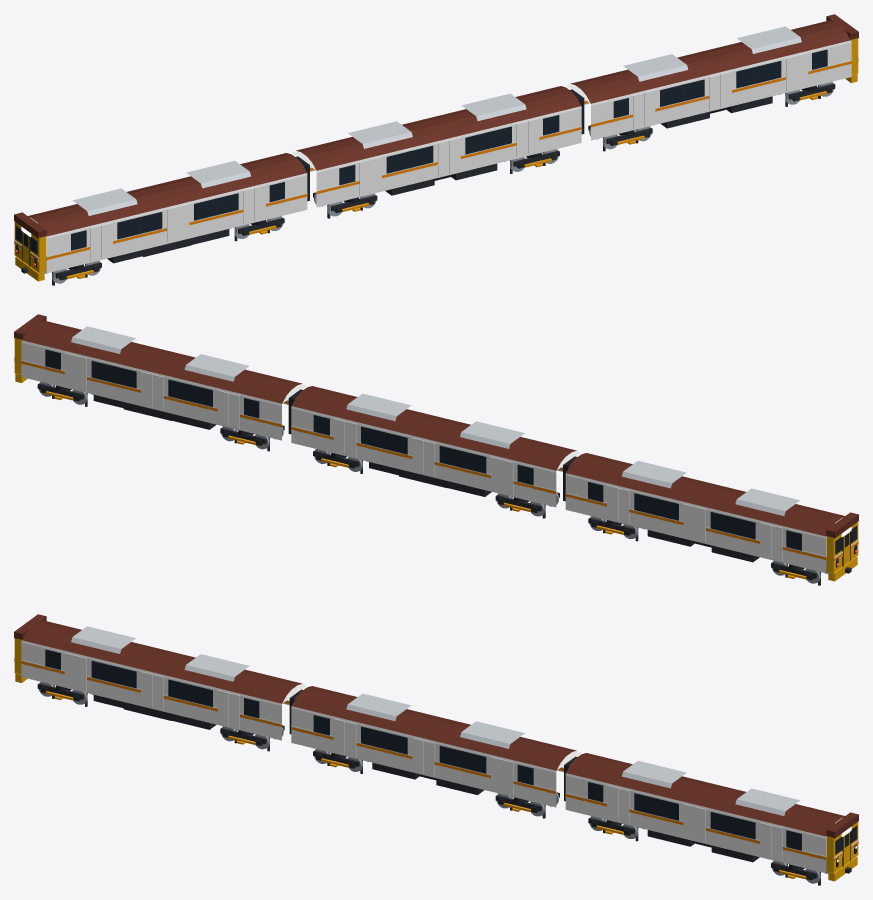
Rendered from tokyo-metro-1000-consist.glb.
3 renders of one model, top to bottom at view 1: azimuth 30°, elevation 25°; view 2: azimuth 150°, elevation 25°; view 3: azimuth 330°, elevation 25°, orthographic.
Visible parts, largest first — view 1: Roof_Maroon_Crown (×3), Body_Shell (×3), Doors_And_Windows (×3), Roof_HVAC (×6), Car_Canonical (×3), Lead_Cab_Front (×2), Underfloor_Equipment (×3); view 2: Roof_Maroon_Crown (×3), Body_Shell (×3), Doors_And_Windows (×3), Roof_HVAC (×6), Car_Canonical (×3), Underfloor_Equipment (×3), Lead_Cab_Front (×2); view 3: Roof_Maroon_Crown (×3), Body_Shell (×3), Doors_And_Windows (×3), Roof_HVAC (×6), Car_Canonical (×3), Lead_Cab_Front (×2), Underfloor_Equipment (×3).
Part boxes in pixels (x1,y1,x2,y2): Roof_Maroon_Crown (×3): (28,20,850,236); Body_Shell (×3): (30,40,851,273); Doors_And_Windows (×3): (71,49,827,250); Roof_HVAC (×6): (73,26,801,215); Car_Canonical (×3): (46,60,851,260); Lead_Cab_Front (×2): (14,14,858,281); Underfloor_Equipment (×3): (107,96,772,263); Roof_Maroon_Crown (×3): (22,320,844,536); Body_Shell (×3): (21,340,842,573); Doors_And_Windows (×3): (45,349,801,550); Roof_HVAC (×6): (71,326,799,515); Car_Canonical (×3): (21,360,826,560); Underfloor_Equipment (×3): (93,395,759,562); Lead_Cab_Front (×2): (14,314,858,581); Roof_Maroon_Crown (×3): (22,620,844,836); Body_Shell (×3): (21,640,842,873); Doors_And_Windows (×3): (45,649,801,850); Roof_HVAC (×6): (71,626,799,815); Car_Canonical (×3): (21,660,826,860); Lead_Cab_Front (×2): (14,614,858,881); Underfloor_Equipment (×3): (93,695,759,862).
Bounding box in the file's own units: 48.08 × 4.05 × 2.63.
